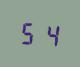five: (19, 18, 38, 46)
four: (39, 19, 58, 48)
